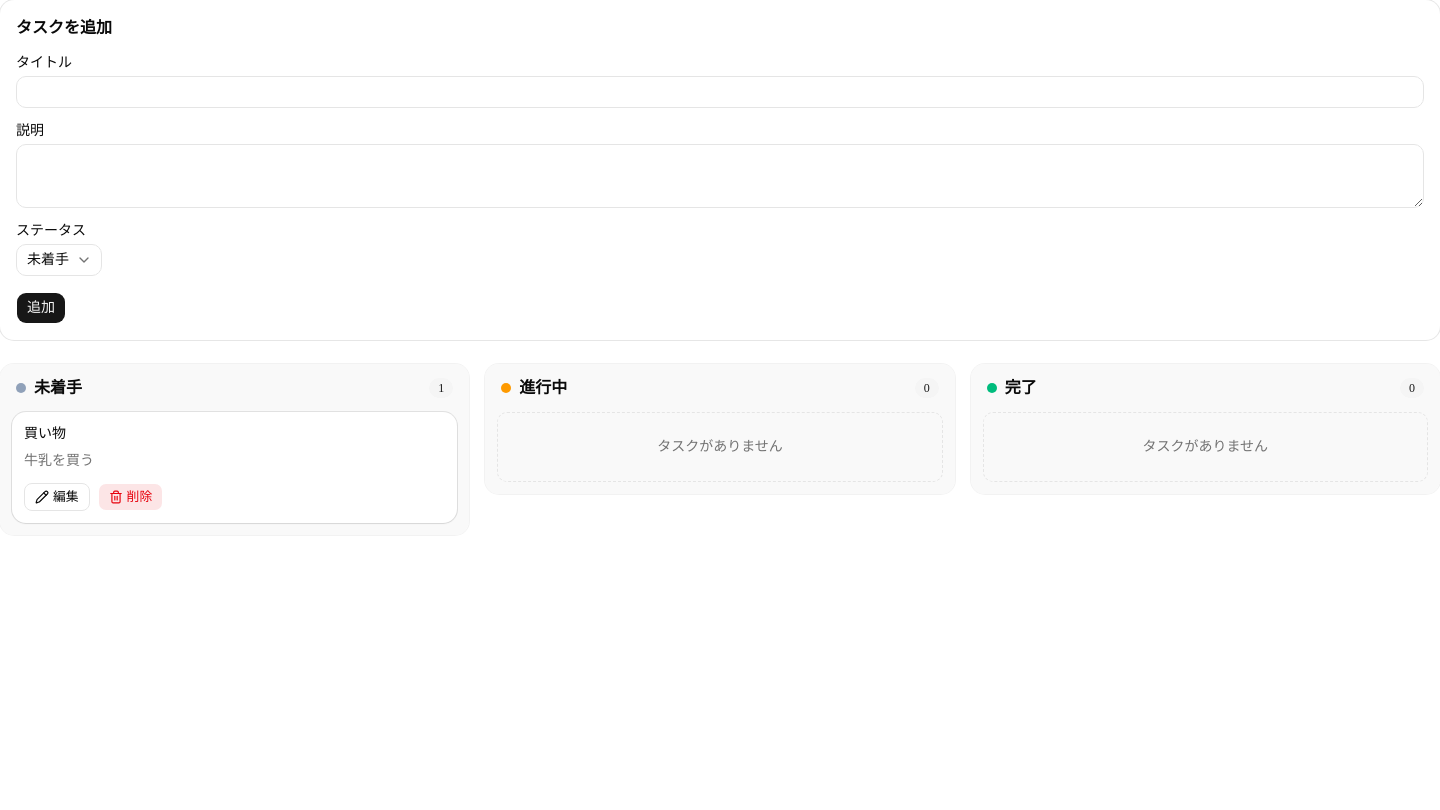
Test: 編集 › 編集でタイトルを空にして保存すると、エラーを表示し更新しない
Check: the element "未着手" is shown, box [0,364,469,535]
Click the button with aria-label "買い物を編集" at (57,497), box [24,483,90,511]
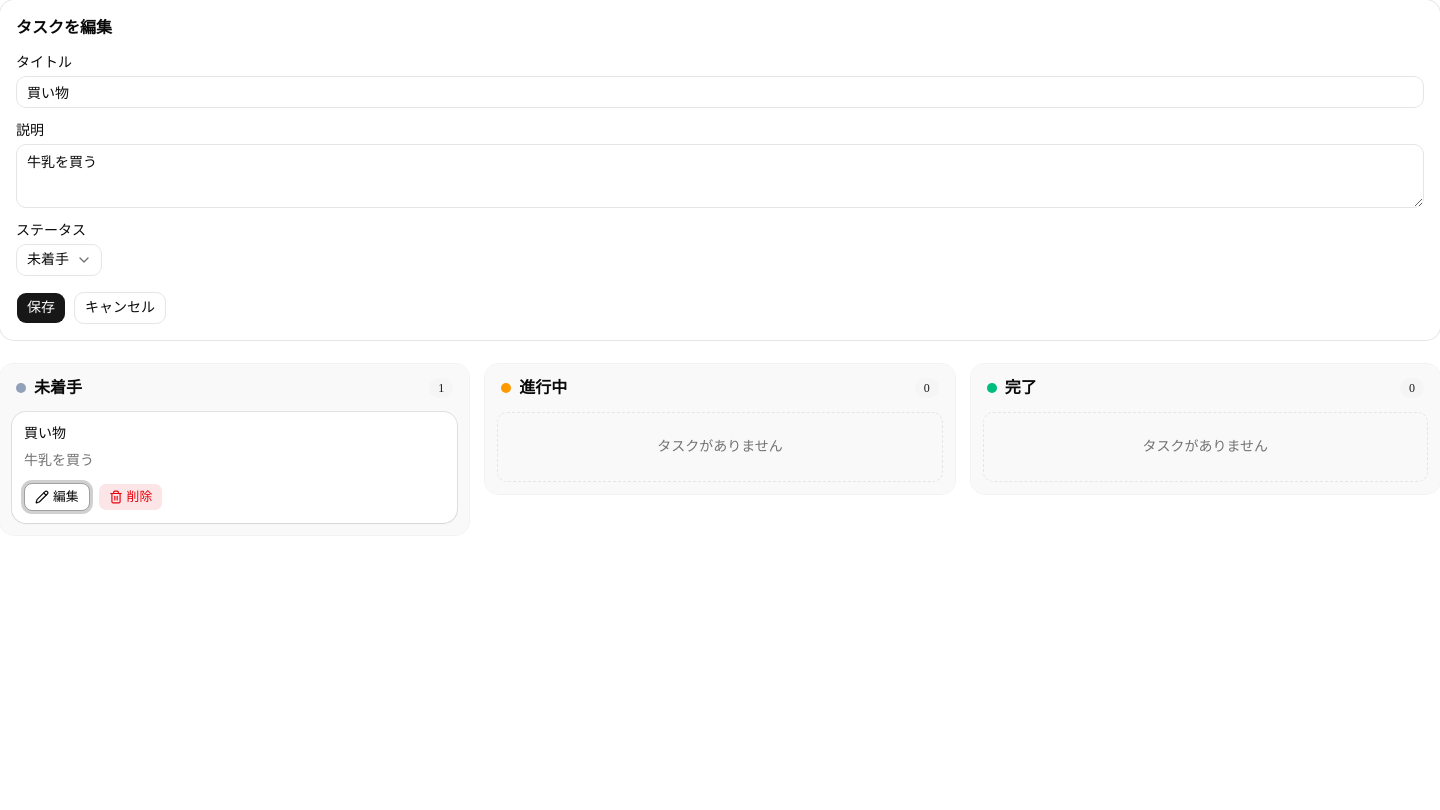
Clear the field labelled "タイトル" at (720,92), box [16,76,1424,108]
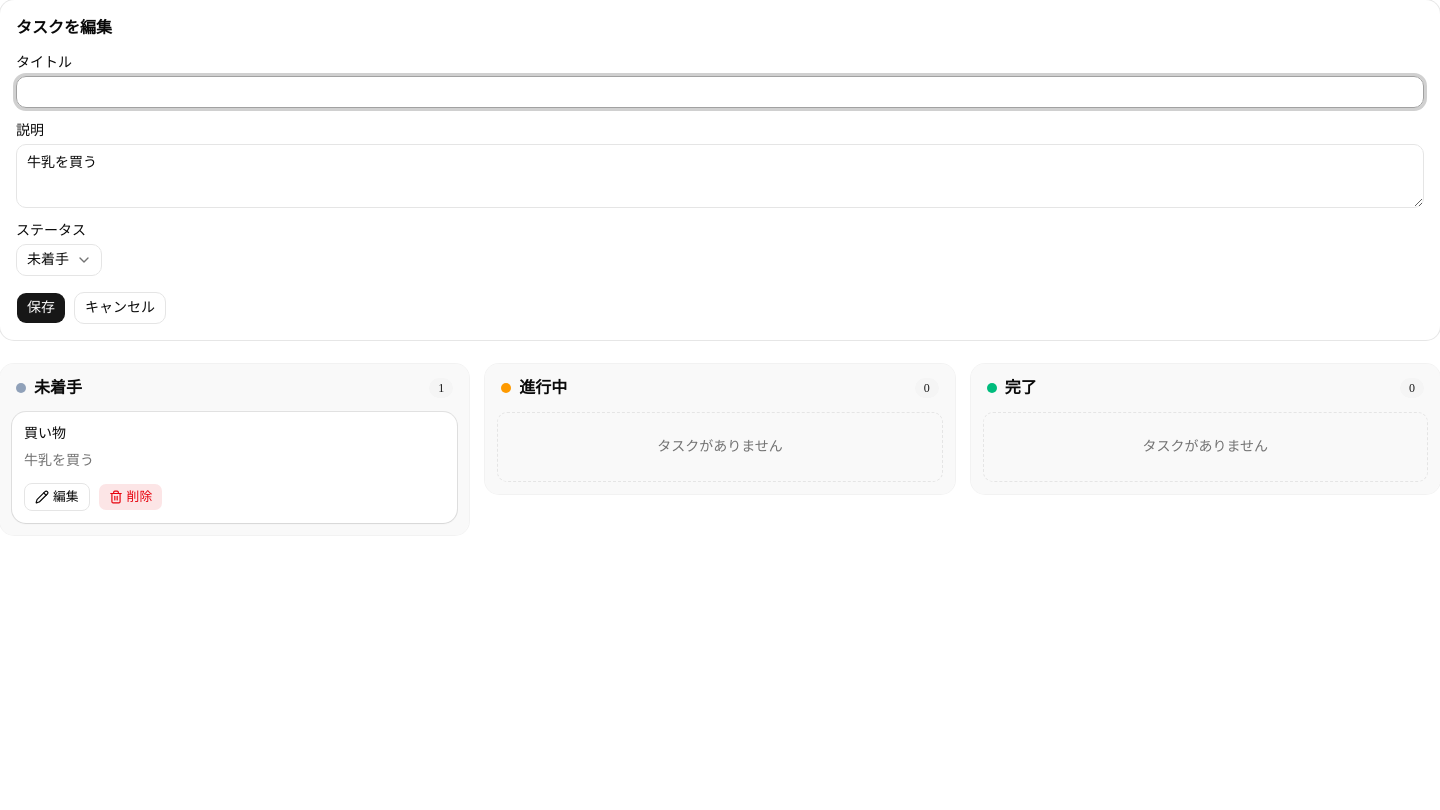
Click the button "保存" at (41,308), box [16,292,66,324]
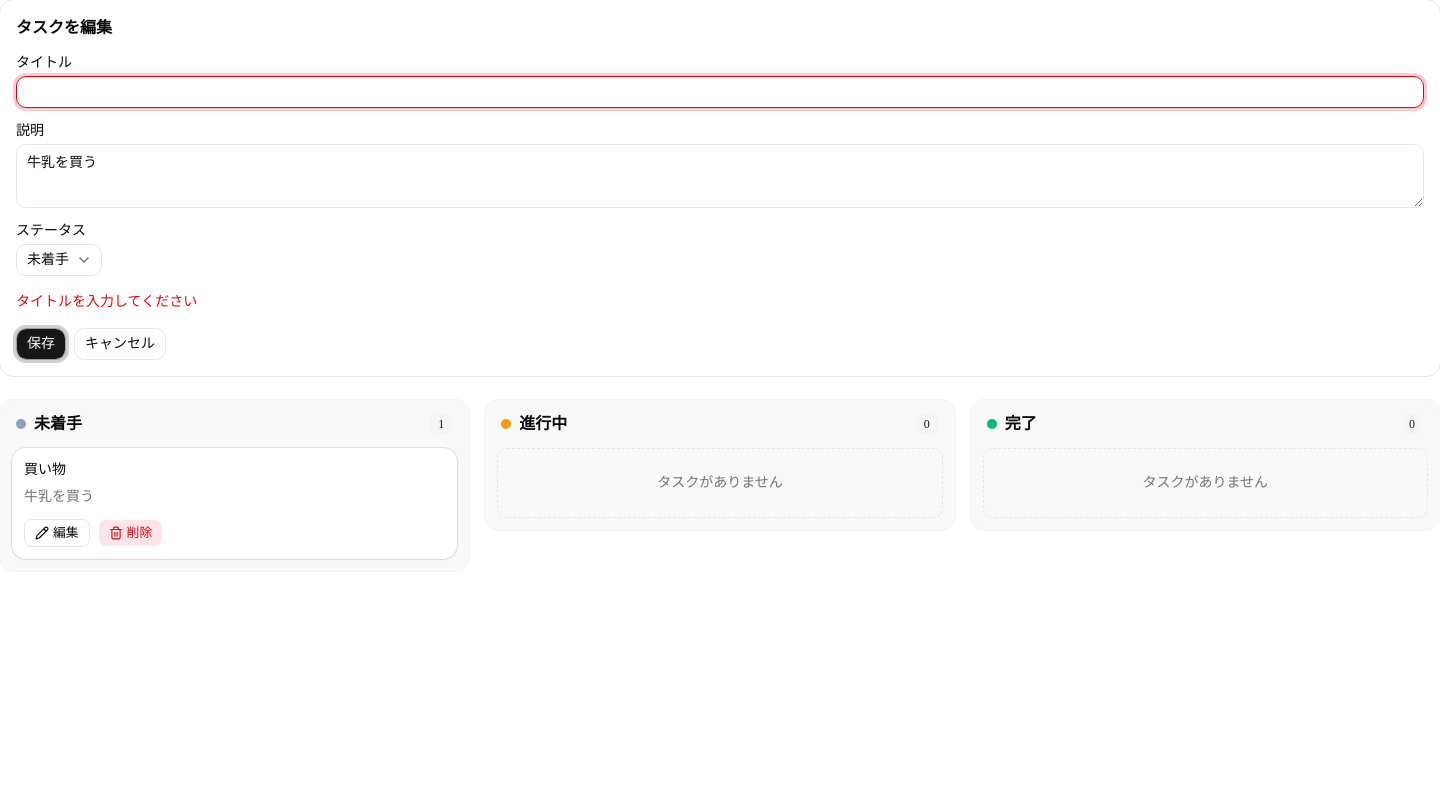
Check: the message reads "タイトルを入力してください", box [16,294,197,309]
